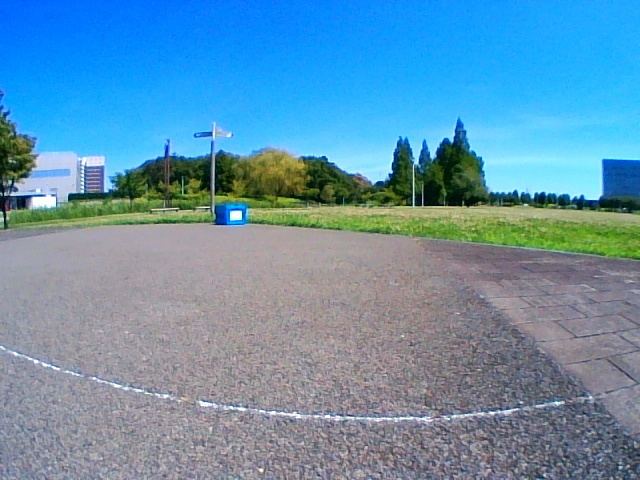blue_box: (216, 204, 246, 224)
tag: (230, 209, 243, 221)
